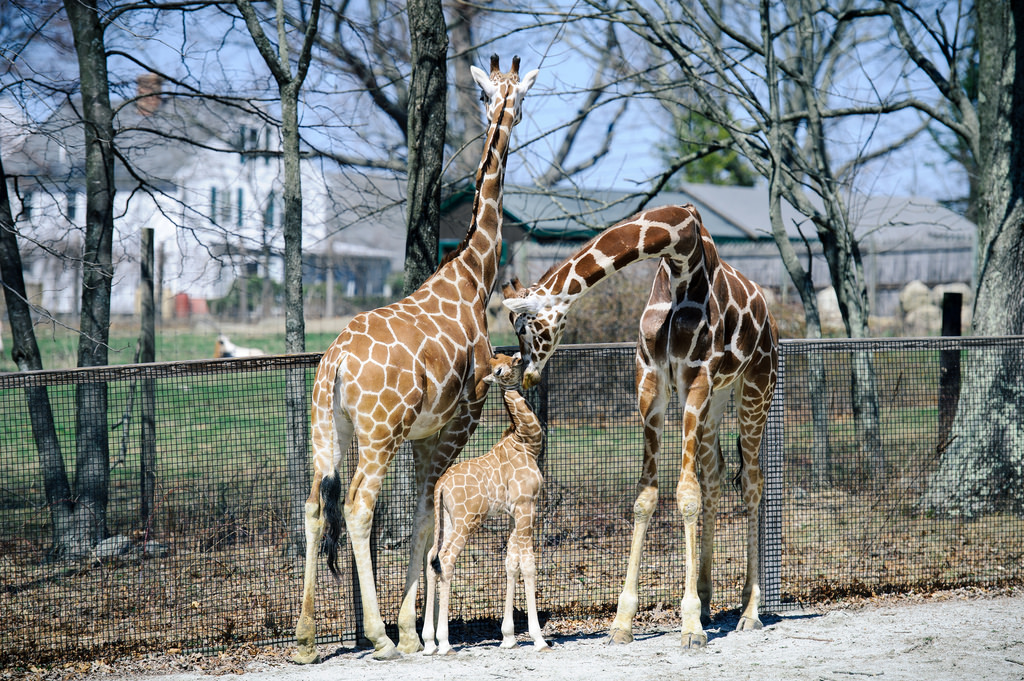giraffe: (237, 41, 570, 635), (505, 198, 831, 671), (419, 326, 562, 651)
